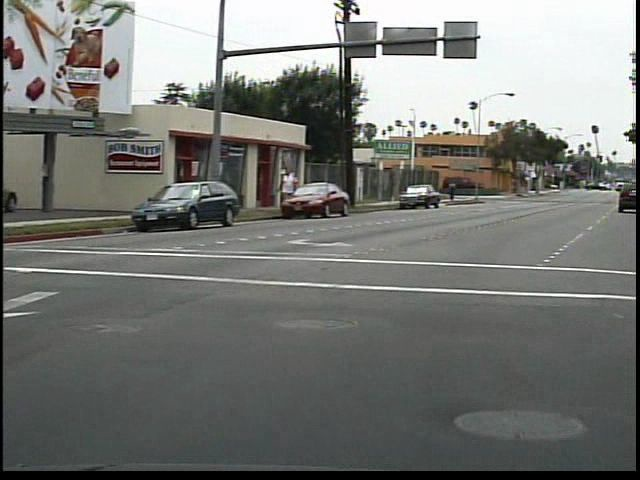person: (283, 161, 308, 214), (452, 179, 465, 204)
